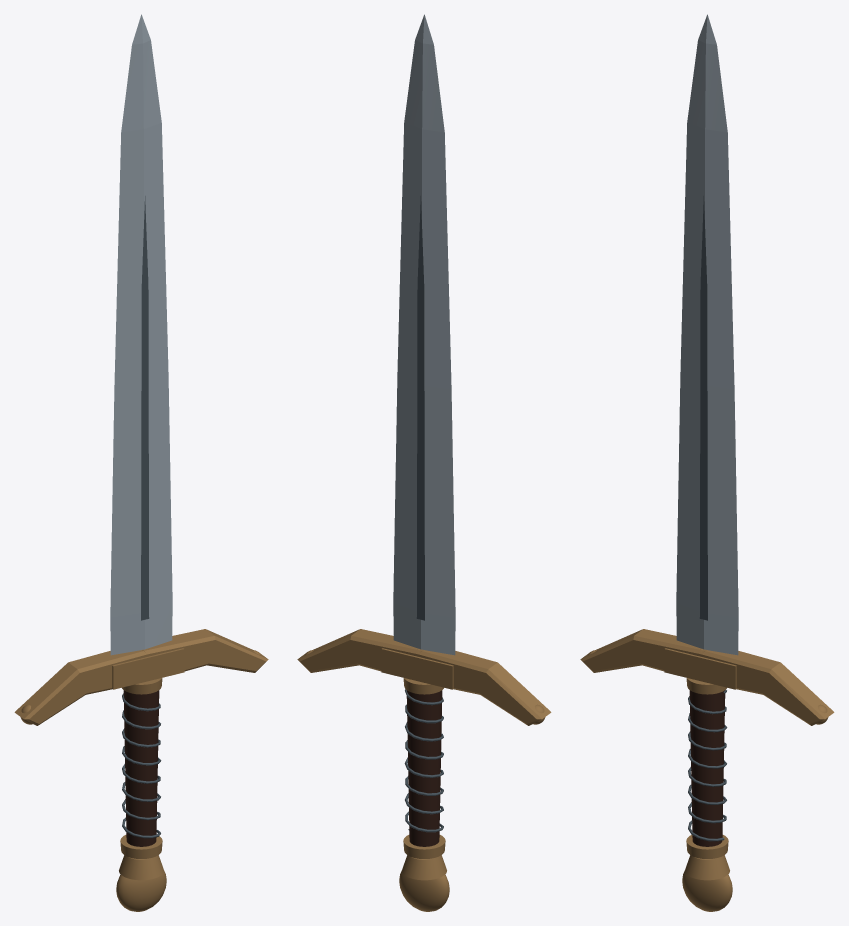
Rendered from longsword.lod1.glb.
The picture shows the model from 3 angles, left to right: view 1: azimuth 30°, elevation 25°; view 2: azimuth 150°, elevation 25°; view 3: azimuth 330°, elevation 25°; orthographic projection.
Visible parts, largest first — view 1: blade, grip, quillon.-1, fuller.1, quillon.1, guard block, wheel pommel, leather binding, pommel neck, grip collar; view 2: blade, grip, quillon.-1, fuller.-1, quillon.1, guard block, wheel pommel, leather binding, pommel neck, grip collar; view 3: blade, grip, quillon.1, fuller.1, quillon.-1, guard block, wheel pommel, leather binding, pommel neck, grip collar.
Boxes of the visible parts, left/top/right/bottom form: blade: left=110, top=14, right=172, bottom=655; grip: left=123, top=690, right=159, bottom=846; quillon.-1: left=14, top=648, right=148, bottom=725; fuller.1: left=141, top=196, right=149, bottom=620; quillon.1: left=142, top=629, right=268, bottom=672; guard block: left=112, top=648, right=184, bottom=689; wheel pommel: left=116, top=871, right=166, bottom=911; leather binding: left=122, top=693, right=161, bottom=838; pommel neck: left=119, top=855, right=163, bottom=880; grip collar: left=120, top=835, right=162, bottom=858; blade: left=393, top=14, right=455, bottom=655; grip: left=406, top=690, right=442, bottom=846; quillon.-1: left=417, top=648, right=551, bottom=725; fuller.-1: left=416, top=196, right=424, bottom=620; quillon.1: left=297, top=629, right=423, bottom=672; guard block: left=381, top=648, right=453, bottom=689; wheel pommel: left=399, top=871, right=449, bottom=911; leather binding: left=404, top=689, right=443, bottom=832; pommel neck: left=402, top=855, right=446, bottom=880; grip collar: left=403, top=835, right=445, bottom=858; blade: left=676, top=14, right=738, bottom=655; grip: left=689, top=690, right=725, bottom=846; quillon.1: left=700, top=648, right=834, bottom=725; fuller.1: left=699, top=196, right=707, bottom=620; quillon.-1: left=580, top=629, right=706, bottom=672; guard block: left=664, top=648, right=736, bottom=689; wheel pommel: left=682, top=871, right=732, bottom=911; leather binding: left=688, top=690, right=727, bottom=841; pommel neck: left=685, top=855, right=729, bottom=880; grip collar: left=686, top=835, right=728, bottom=858.
Size of the model in its own units: 0.3613 by 1.26 by 0.058.
